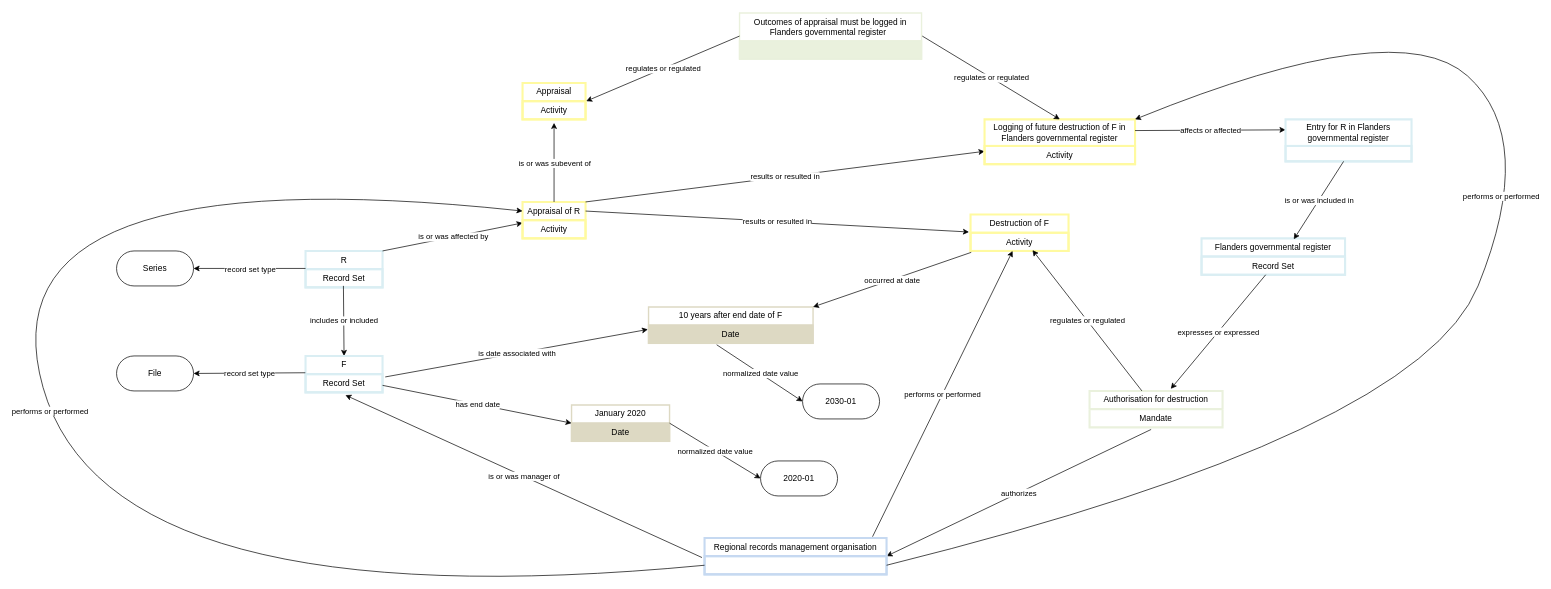
The diagram is 1551 pixels wide and 589 high, and some of its shapes have lost their labels. The shapes that lost their labels are listed below. From the top down, each one's centre as x and y in pixels, then its label:
At pixel 830 49: "Rule".
At pixel 1348 153: "Record".
At pixel 795 565: "Corporate Body".
